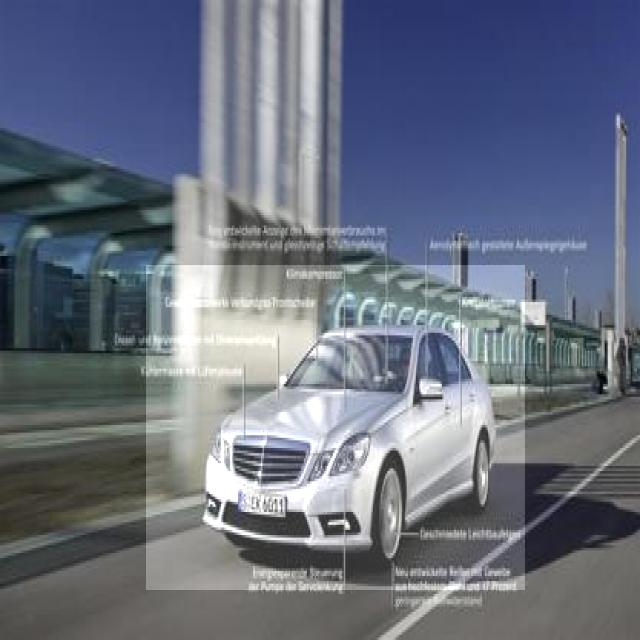Car: (146, 265, 525, 590)
